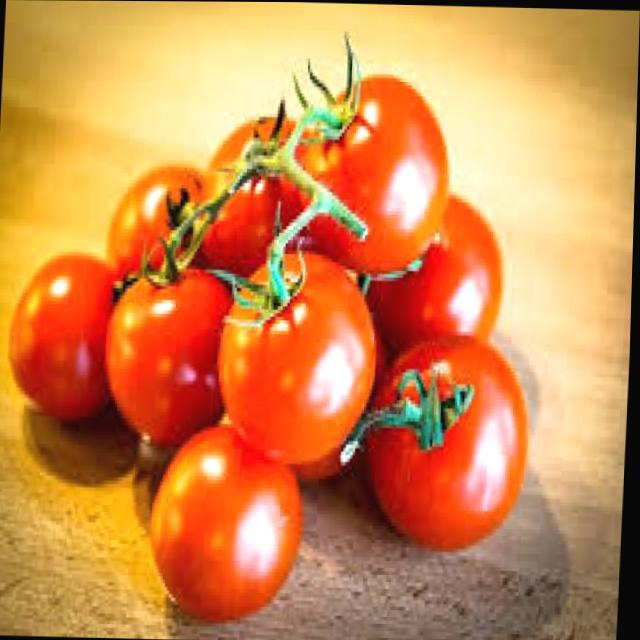tomato: (337, 331, 537, 552), (214, 248, 386, 483), (281, 71, 456, 278), (146, 421, 312, 624), (103, 266, 237, 455), (359, 192, 510, 350), (7, 250, 121, 424)
